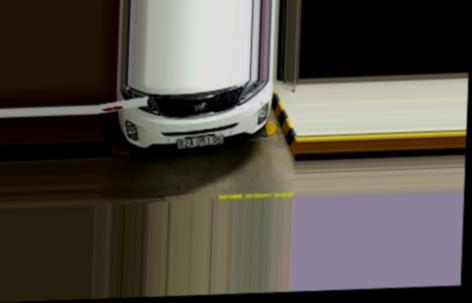License_Plate: (174, 133, 227, 148)
